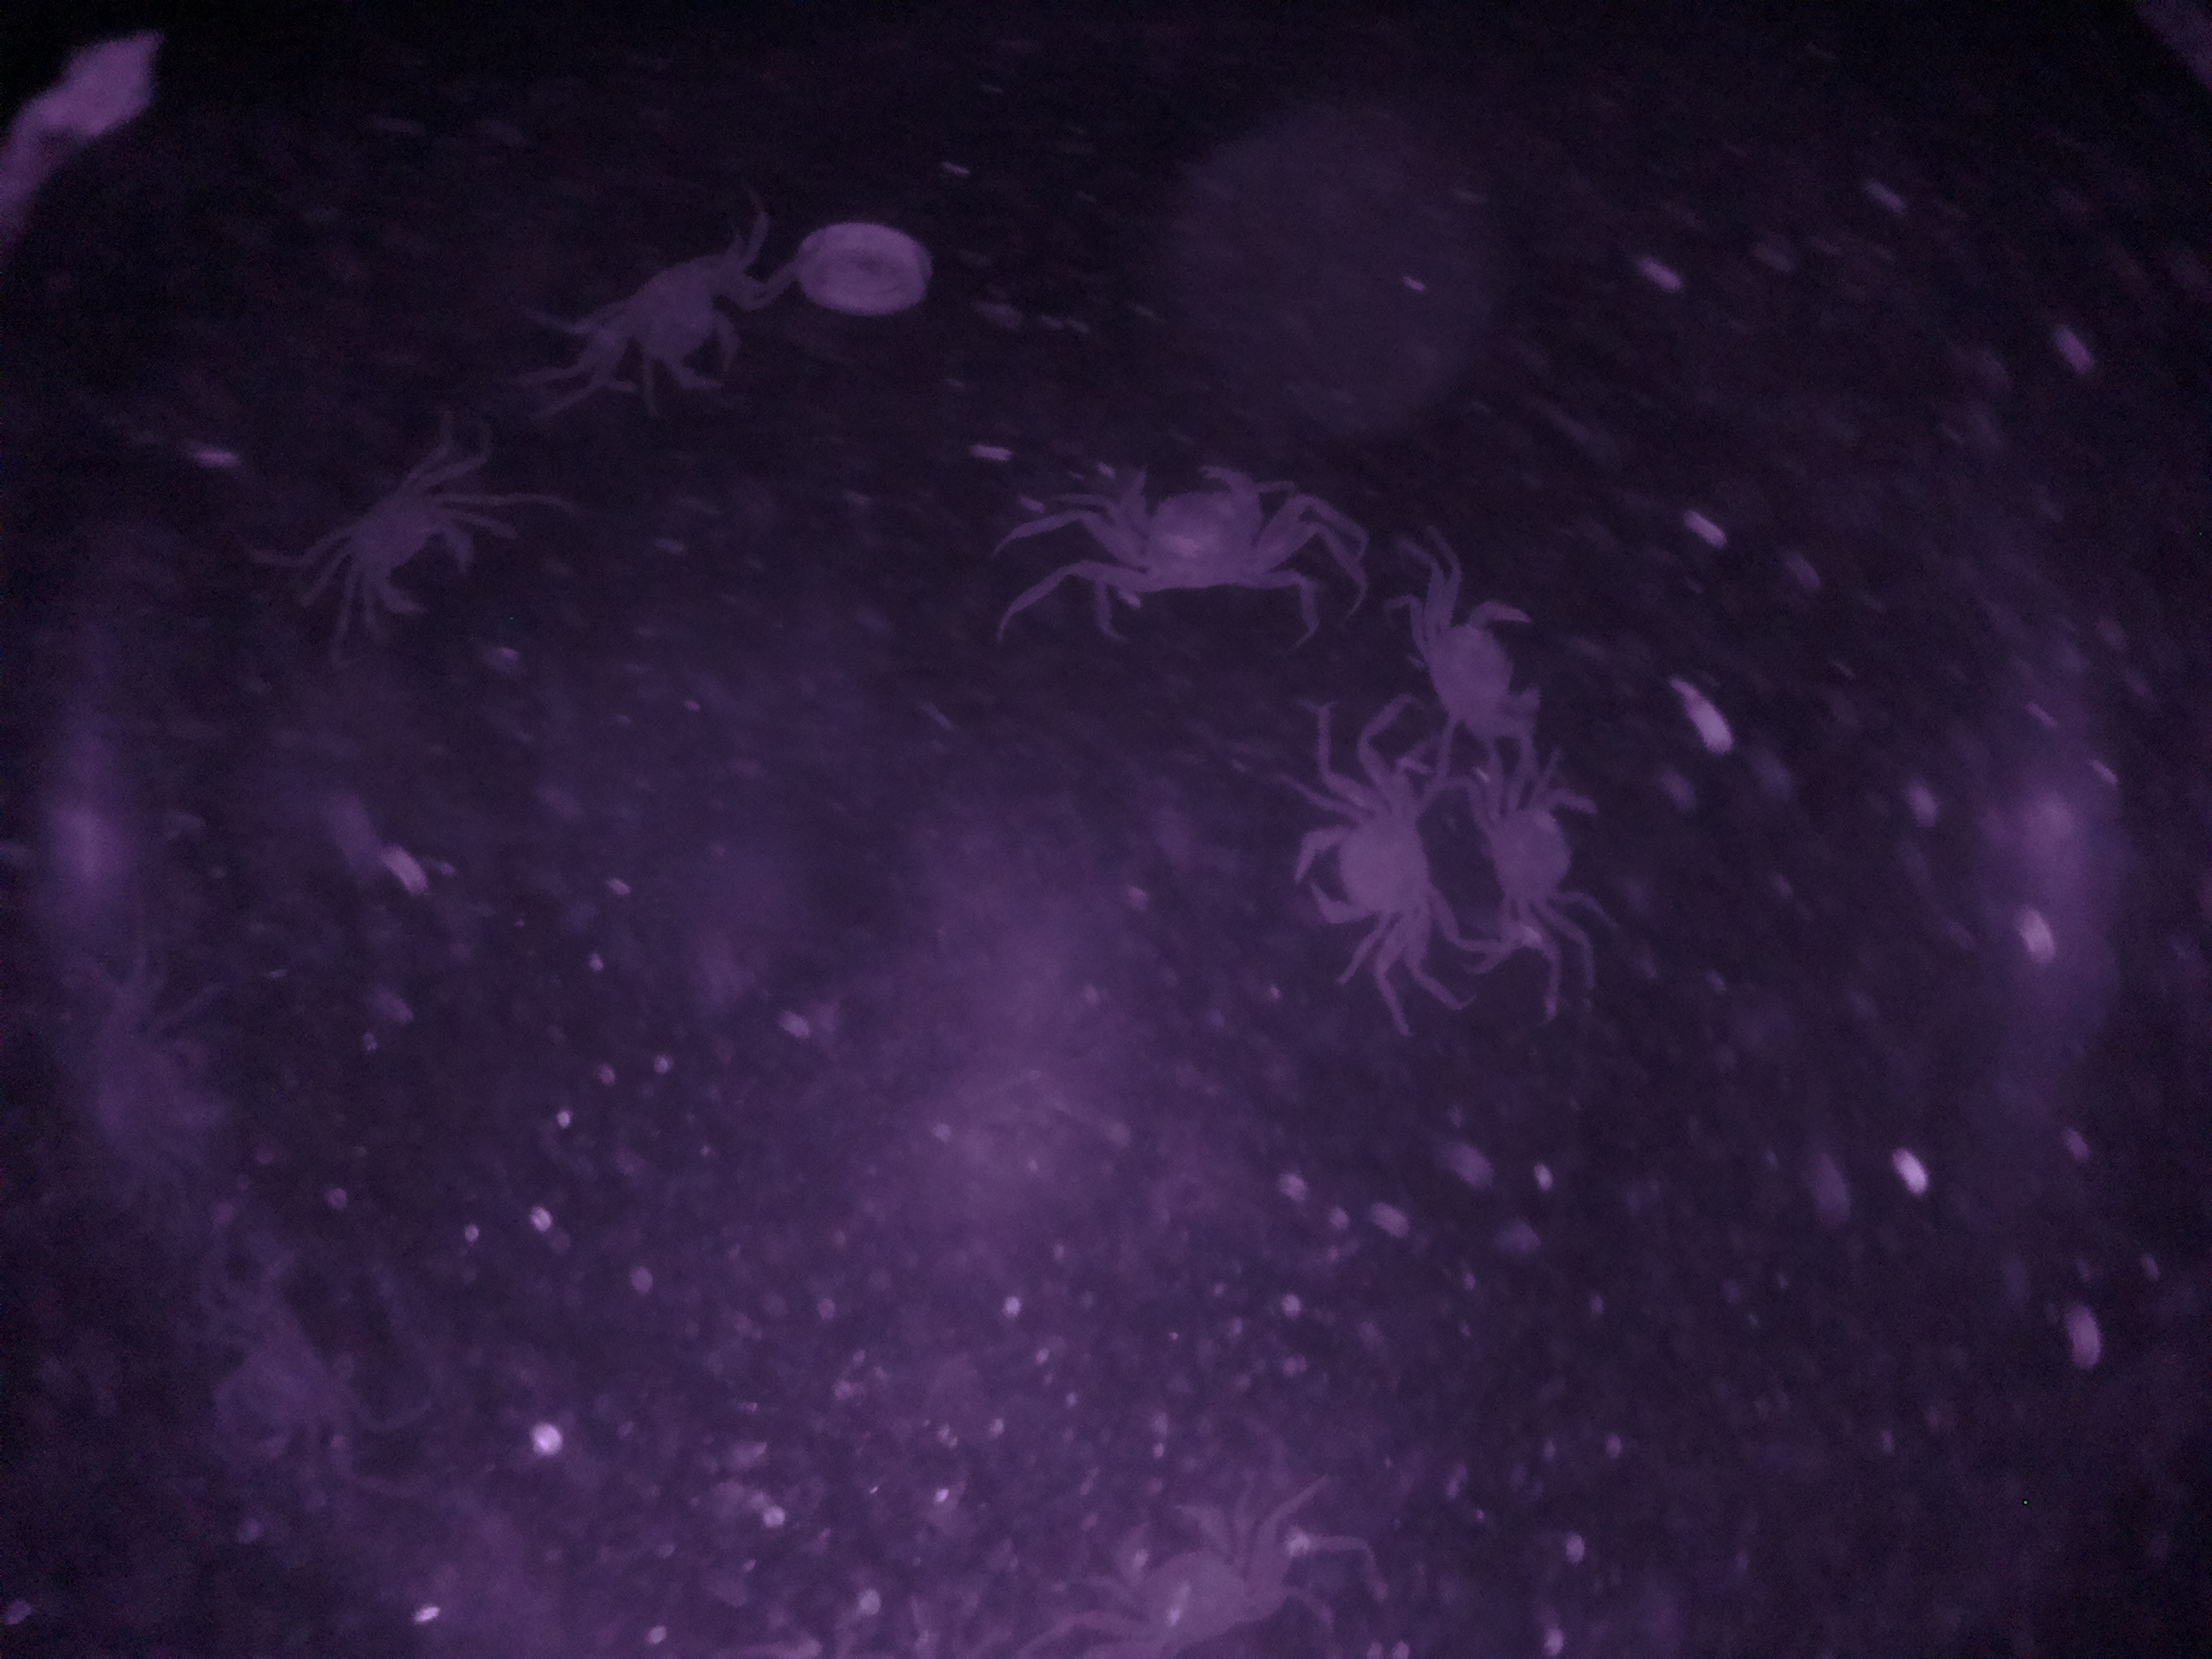Crab: (305, 455, 514, 647), (1280, 753, 1456, 978), (1076, 451, 1332, 599), (570, 232, 773, 416), (1463, 763, 1648, 964), (1379, 580, 1557, 763)
